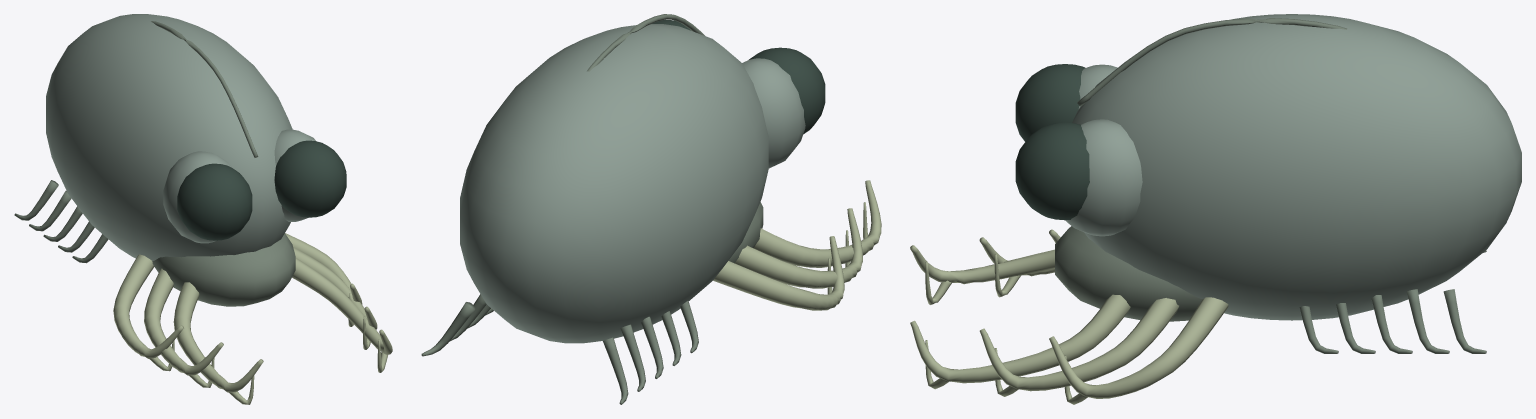
The model's file is dollocaris.glb.
3 renders of one model, left to right at view 1: azimuth 30°, elevation 25°; view 2: azimuth 150°, elevation 25°; view 3: azimuth 270°, elevation 25°, orthographic. The views are drawn at different scales.
Parts seen in each view (by area): view 1: deep-enclosing-bivalved-carapace, exactly-three-pairs-of-grasping-cephalic-appendages, two-enlarged-anterior-eyes-seated-at-carapace, ventral-cephalic-body-and-seated-eye-bases, short-posterior-ventral-appendage-fringe; view 2: deep-enclosing-bivalved-carapace, exactly-three-pairs-of-grasping-cephalic-appendages, ventral-cephalic-body-and-seated-eye-bases, short-posterior-ventral-appendage-fringe, two-enlarged-anterior-eyes-seated-at-carapace; view 3: deep-enclosing-bivalved-carapace, exactly-three-pairs-of-grasping-cephalic-appendages, ventral-cephalic-body-and-seated-eye-bases, two-enlarged-anterior-eyes-seated-at-carapace, short-posterior-ventral-appendage-fringe.
Part boxes in pixels (box(x1,y1,x2,y2)): deep-enclosing-bivalved-carapace: box(46, 14, 292, 260); exactly-three-pairs-of-grasping-cephalic-appendages: box(113, 233, 392, 404); two-enlarged-anterior-eyes-seated-at-carapace: box(177, 140, 346, 240); ventral-cephalic-body-and-seated-eye-bases: box(152, 129, 315, 306); short-posterior-ventral-appendage-fringe: box(14, 180, 108, 263); deep-enclosing-bivalved-carapace: box(460, 14, 768, 343); exactly-three-pairs-of-grasping-cephalic-appendages: box(713, 180, 881, 310); ventral-cephalic-body-and-seated-eye-bases: box(728, 58, 805, 263); short-posterior-ventral-appendage-fringe: box(421, 294, 698, 404); two-enlarged-anterior-eyes-seated-at-carapace: box(652, 19, 825, 134); deep-enclosing-bivalved-carapace: box(1072, 14, 1521, 320); exactly-three-pairs-of-grasping-cephalic-appendages: box(910, 229, 1228, 404); ventral-cephalic-body-and-seated-eye-bases: box(1055, 64, 1202, 321); two-enlarged-anterior-eyes-seated-at-carapace: box(1015, 64, 1089, 220); short-posterior-ventral-appendage-fringe: box(1299, 250, 1486, 353).
Size of the model in its own units: 0.072 by 0.0781 by 0.1323.
